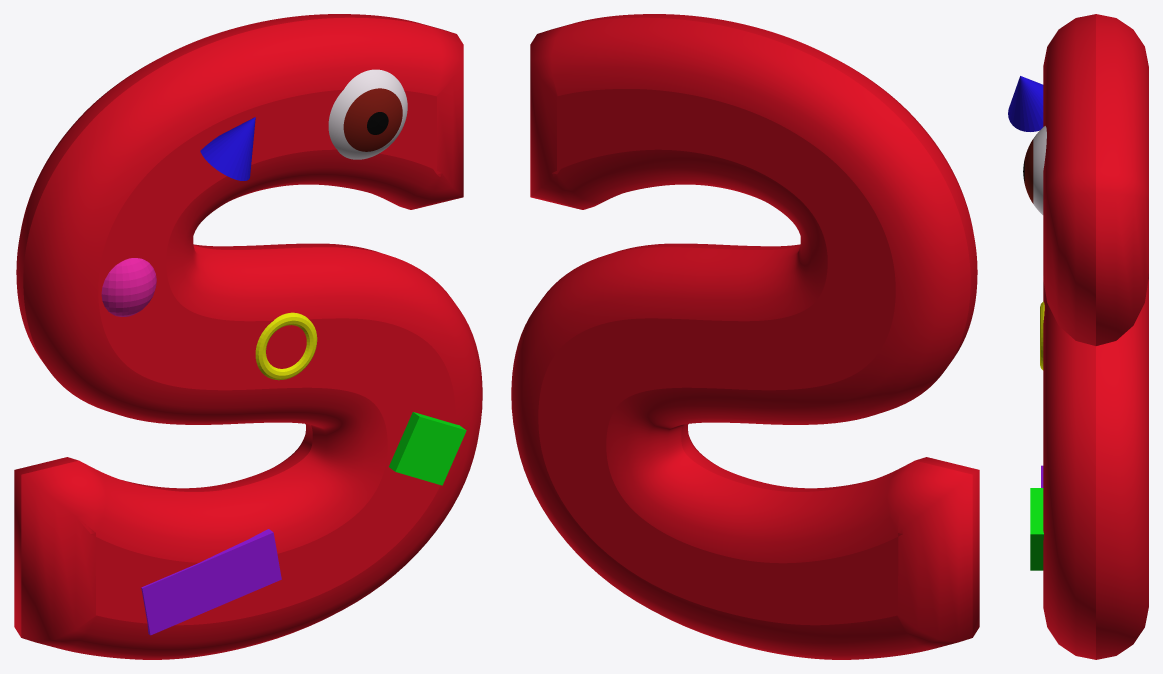
File: s_red.fbx
The picture shows the model from 3 angles, left to right: view 1: azimuth 30°, elevation 25°; view 2: azimuth 150°, elevation 25°; view 3: azimuth 270°, elevation 25°; orthographic projection. The views are drawn at different scales.
Parts seen in each view (by area): view 1: Text, Cube.001, Sphere, Cube, Sphere.001, Cone, Torus; view 2: Text; view 3: Text, Cone, Sphere, Cube, Torus.
Part boxes in pixels (left/top/right/bottom): Text: left=14, top=14, right=482, bottom=659; Cube.001: left=141, top=529, right=281, bottom=635; Sphere: left=328, top=69, right=407, bottom=159; Cube: left=389, top=412, right=466, bottom=485; Sphere.001: left=101, top=258, right=156, bottom=316; Cone: left=200, top=117, right=255, bottom=180; Torus: left=255, top=312, right=317, bottom=380; Text: left=511, top=14, right=979, bottom=659; Text: left=1043, top=14, right=1148, bottom=659; Cone: left=1008, top=76, right=1043, bottom=131; Sphere: left=1023, top=126, right=1046, bottom=214; Cube: left=1030, top=488, right=1043, bottom=570; Torus: left=1040, top=301, right=1044, bottom=370.
Bounding box in the file's own units: 94.48 × 121 × 26.31.
